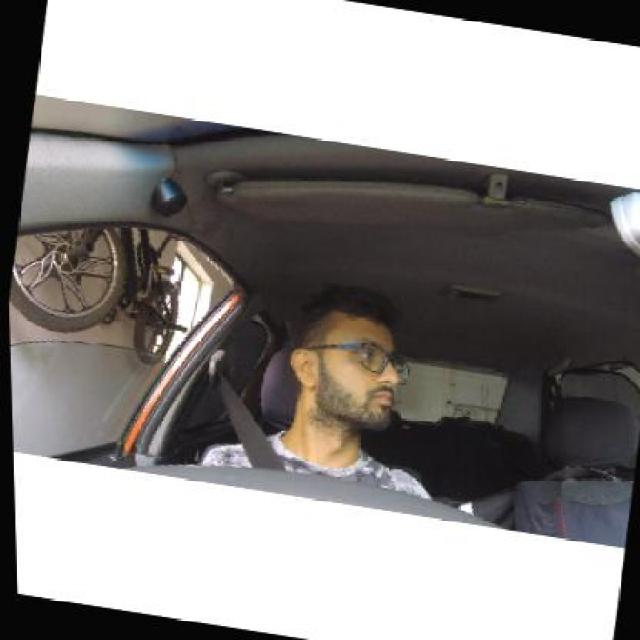LeftRight: (288, 309, 404, 436)
